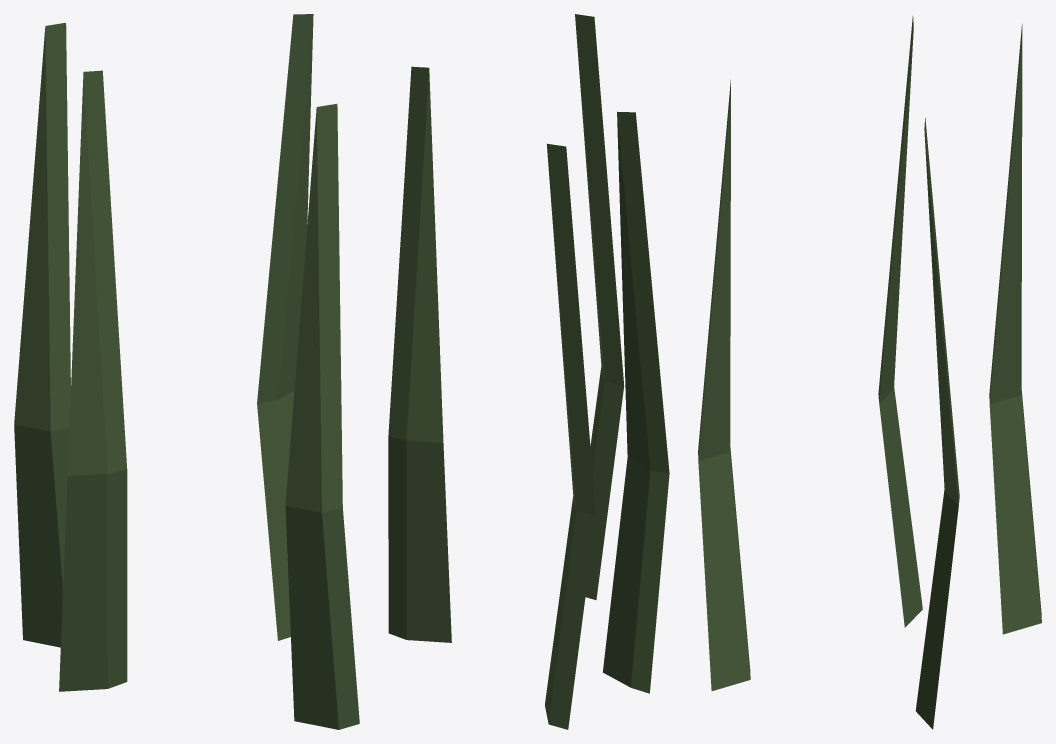
Rendered from grass_2.gltf.
3 views of the same model, side by side, from view 1: azimuth 30°, elevation 25°; view 2: azimuth 150°, elevation 25°; view 3: azimuth 270°, elevation 25° (orthographic). The views are drawn at different scales.
Visible parts, largest first — view 1: grass_2; view 2: grass_2; view 3: grass_2.
Part boxes in pixels (<box>): grass_2: <box>14,14,359,729</box>; grass_2: <box>388,14,669,729</box>; grass_2: <box>698,16,1041,729</box>.
Size of the model in its own units: 0.2501 by 0.5237 by 0.2733.
1 material, 1 textured.
